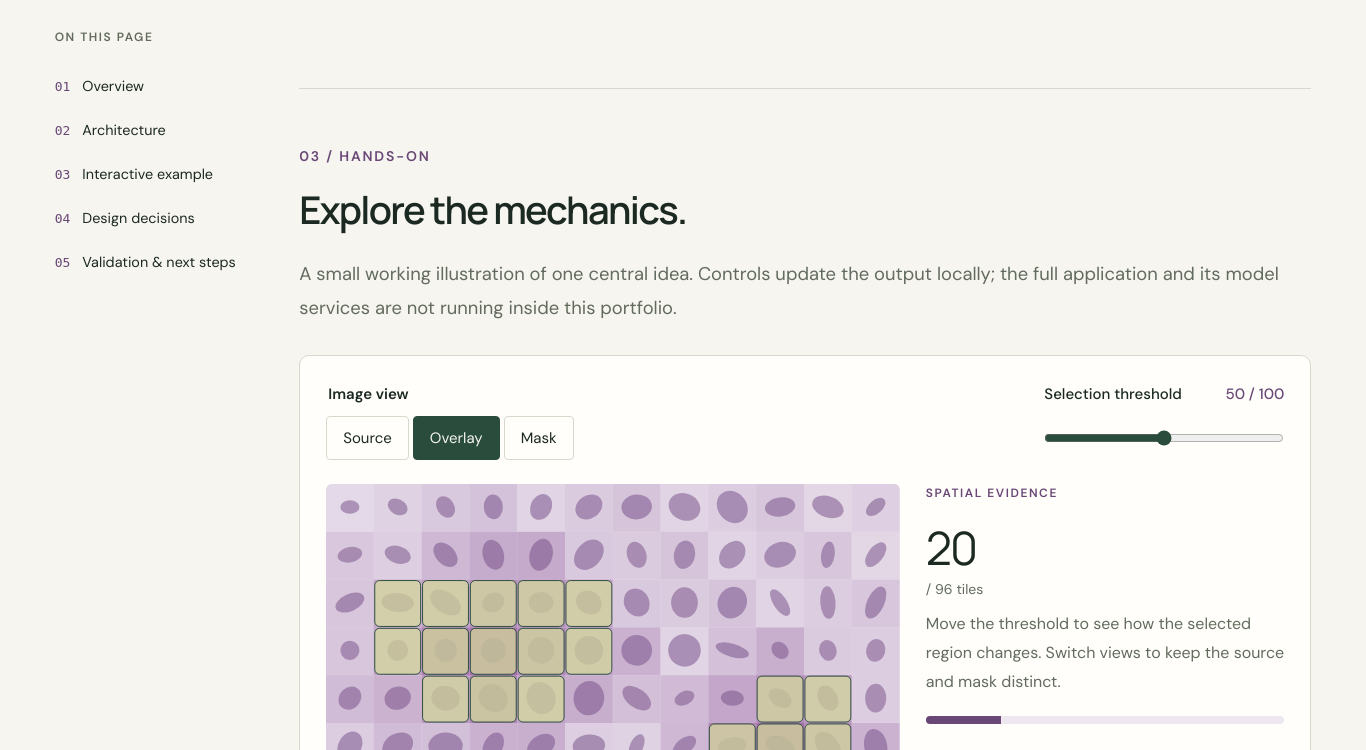
Test case: completed case studies › cycles between case studies without retaining the previous example's controls
(page scrolled)
Click the radio button labelled "mask": click(539, 438) [504, 416, 574, 460]
(page scrolled)
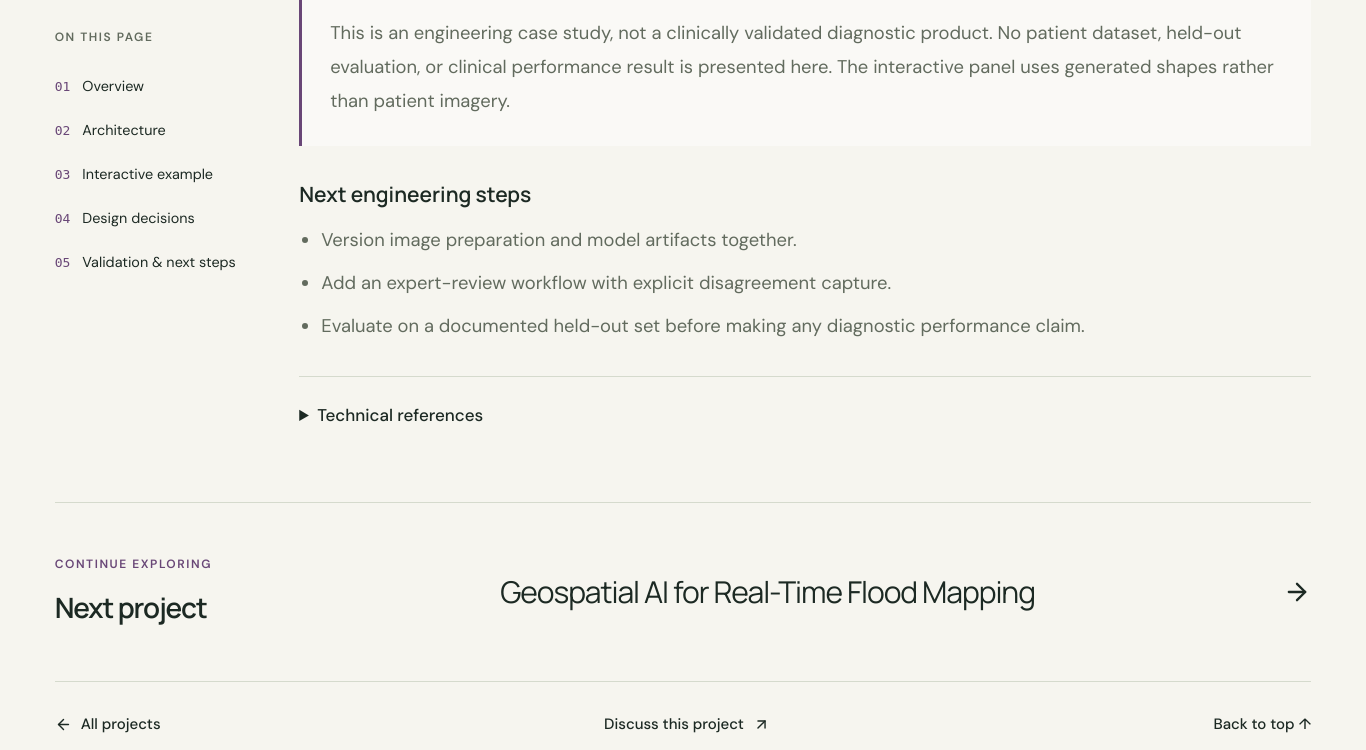
Click the link "Geospatial AI for Real-Time Flood Mapping": click(906, 592) [500, 571, 1311, 613]
(page scrolled)
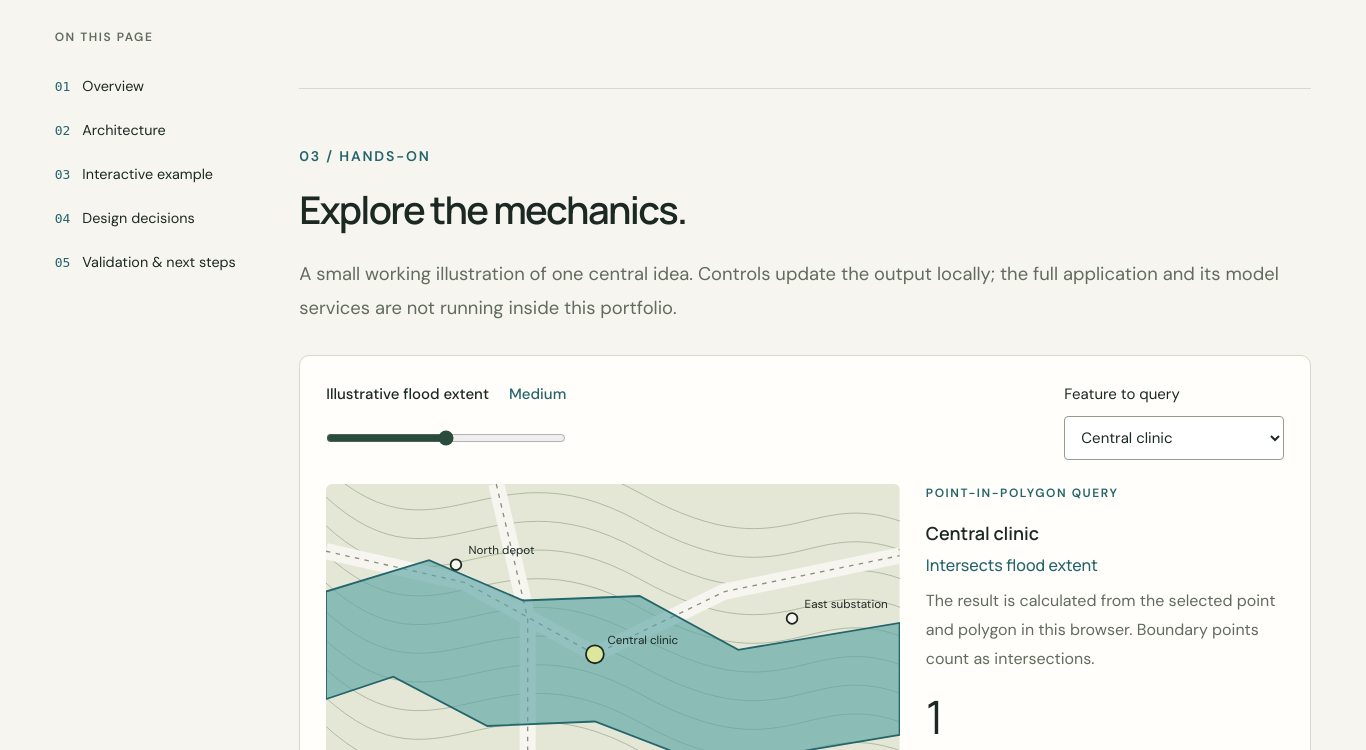
Expected: the radio button labelled "mask" is not shown
Expected: the dropdown labelled "Feature to query" is shown, [1064, 416, 1284, 460]
